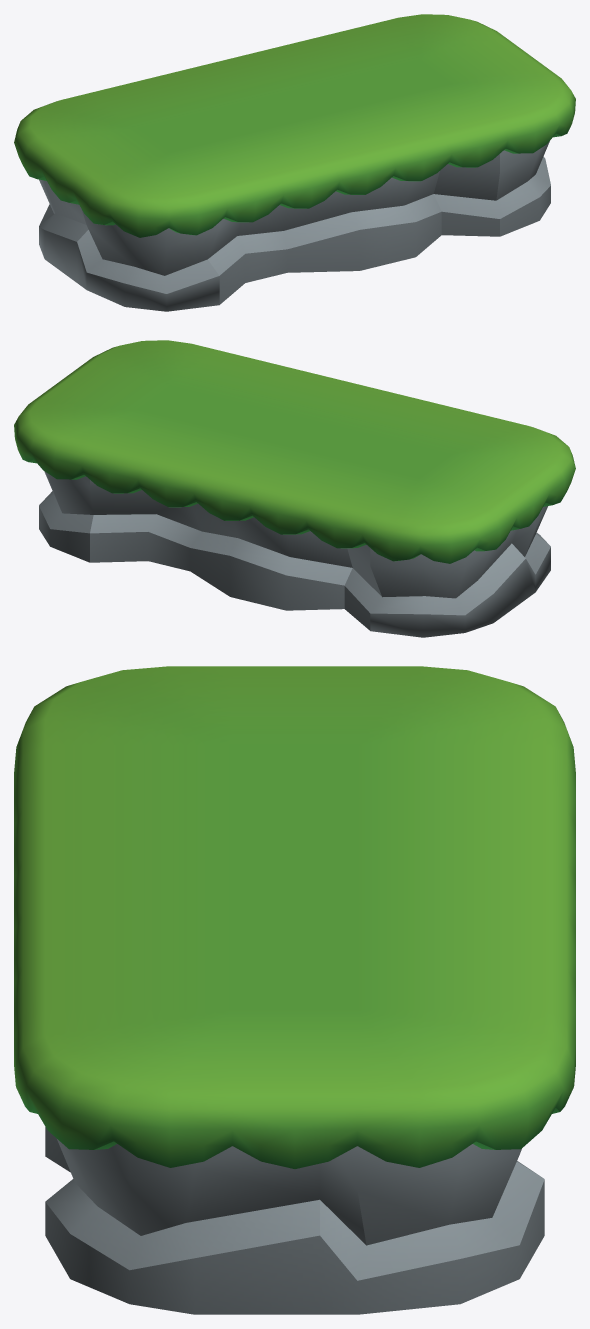
File: Hill_8x4x2_Color1.gltf
3 renders of one model, top to bottom at view 1: azimuth 30°, elevation 25°; view 2: azimuth 150°, elevation 25°; view 3: azimuth 270°, elevation 25°, orthographic. The views are drawn at different scales.
Visible parts, largest first — view 1: Hill_8x4x2_Color1; view 2: Hill_8x4x2_Color1; view 3: Hill_8x4x2_Color1.
Part boxes in pixels (bbox=[...]): Hill_8x4x2_Color1: bbox=[14, 14, 575, 311]; Hill_8x4x2_Color1: bbox=[14, 340, 575, 637]; Hill_8x4x2_Color1: bbox=[14, 666, 575, 1314].
Bounding box in the file's own units: 8.5 × 2 × 4.5.
1 material, 1 textured.
